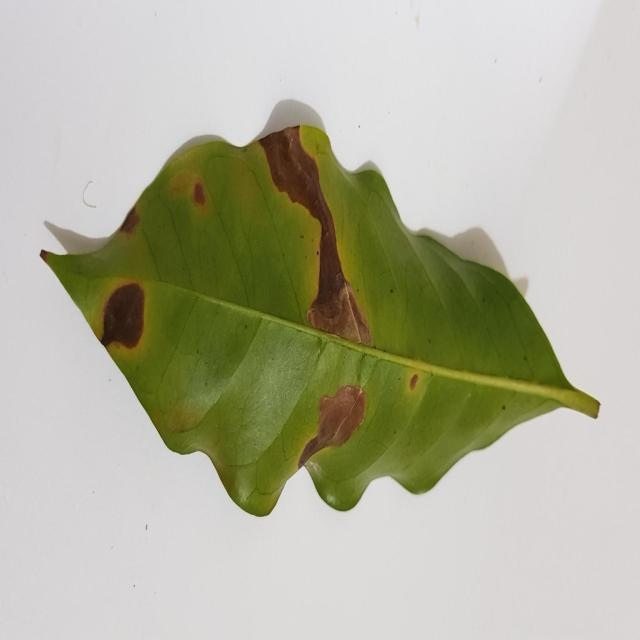Plaga-Minador: (39, 104, 601, 519)
